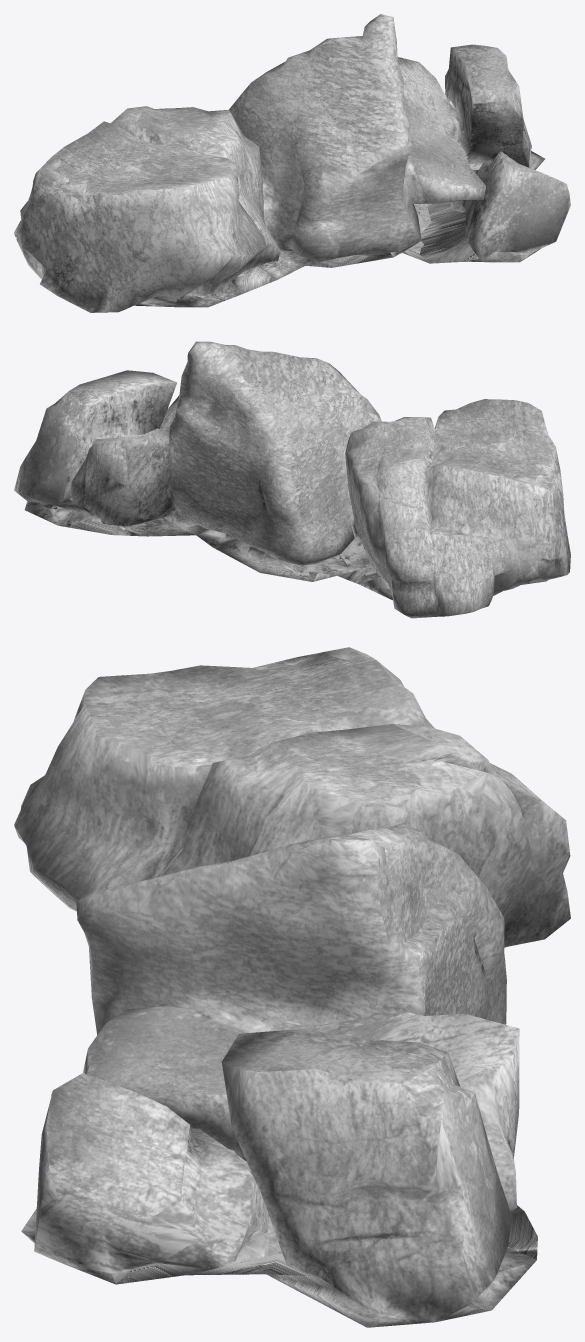
File: namaqualand_boulder_02.glb
3 renders of one model, top to bottom at view 1: azimuth 30°, elevation 25°; view 2: azimuth 150°, elevation 25°; view 3: azimuth 270°, elevation 25°, orthographic. The views are drawn at different scales.
Visible parts, largest first — view 1: namaqualand_boulder_02; view 2: namaqualand_boulder_02; view 3: namaqualand_boulder_02.
Boxes of the visible parts, <box> form: namaqualand_boulder_02: <box>14,14,570,312</box>; namaqualand_boulder_02: <box>14,341,570,618</box>; namaqualand_boulder_02: <box>14,647,570,1327</box>.
Size of the model in its own units: 2.48 by 0.8507 by 1.22.
Materials: 1 (1 with a texture image).
